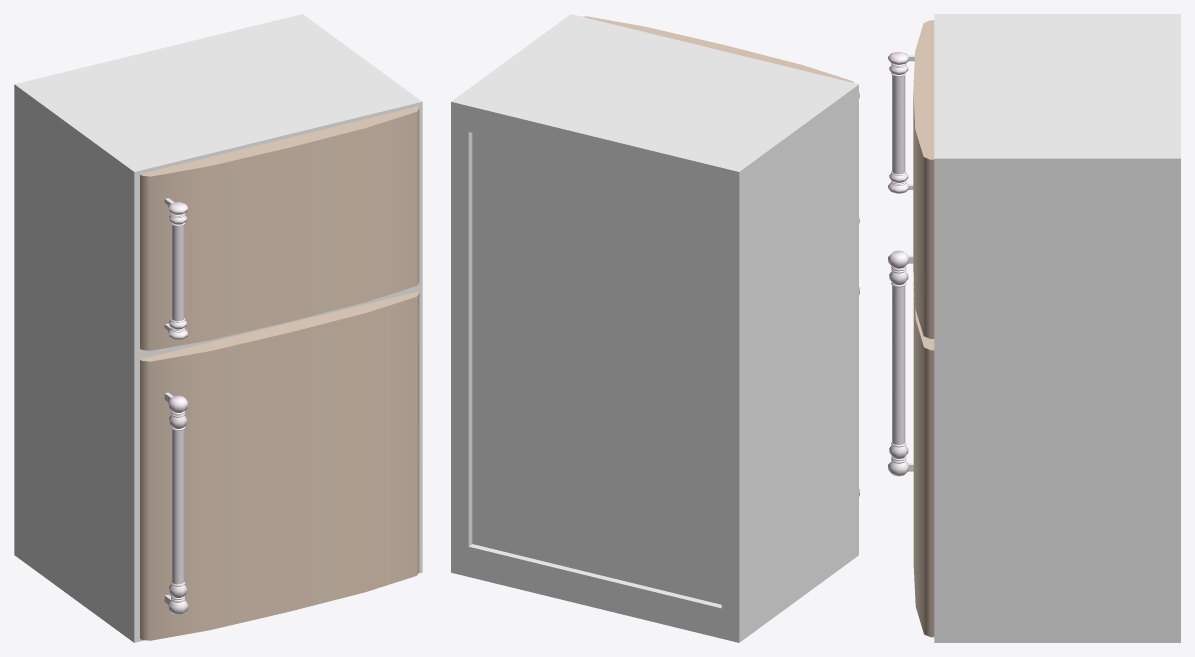
File: Fridge_A.fbx
3 renders of one model, left to right at view 1: azimuth 30°, elevation 25°; view 2: azimuth 150°, elevation 25°; view 3: azimuth 270°, elevation 25°, orthographic. The views are drawn at different scales.
Parts seen in each view (by area): view 1: polySurface17, polySurface10, polySurface2, polySurface2.002, polySurface2.004; view 2: polySurface17, polySurface2; view 3: polySurface17, polySurface10, polySurface2, polySurface2.002, polySurface2.004.
Boxes of the visible parts, x1,y1,x2,y2 form: polySurface17: [14, 14, 422, 642]; polySurface10: [140, 291, 419, 640]; polySurface2: [140, 106, 419, 350]; polySurface2.002: [168, 395, 187, 614]; polySurface2.004: [168, 202, 187, 339]; polySurface17: [451, 14, 858, 642]; polySurface2: [583, 16, 853, 82]; polySurface17: [934, 14, 1180, 642]; polySurface10: [913, 280, 934, 637]; polySurface2: [913, 20, 934, 338]; polySurface2.002: [888, 250, 908, 476]; polySurface2.004: [888, 51, 908, 193].
Bounding box in the file's own units: 56.99 × 88.99 × 48.75.
